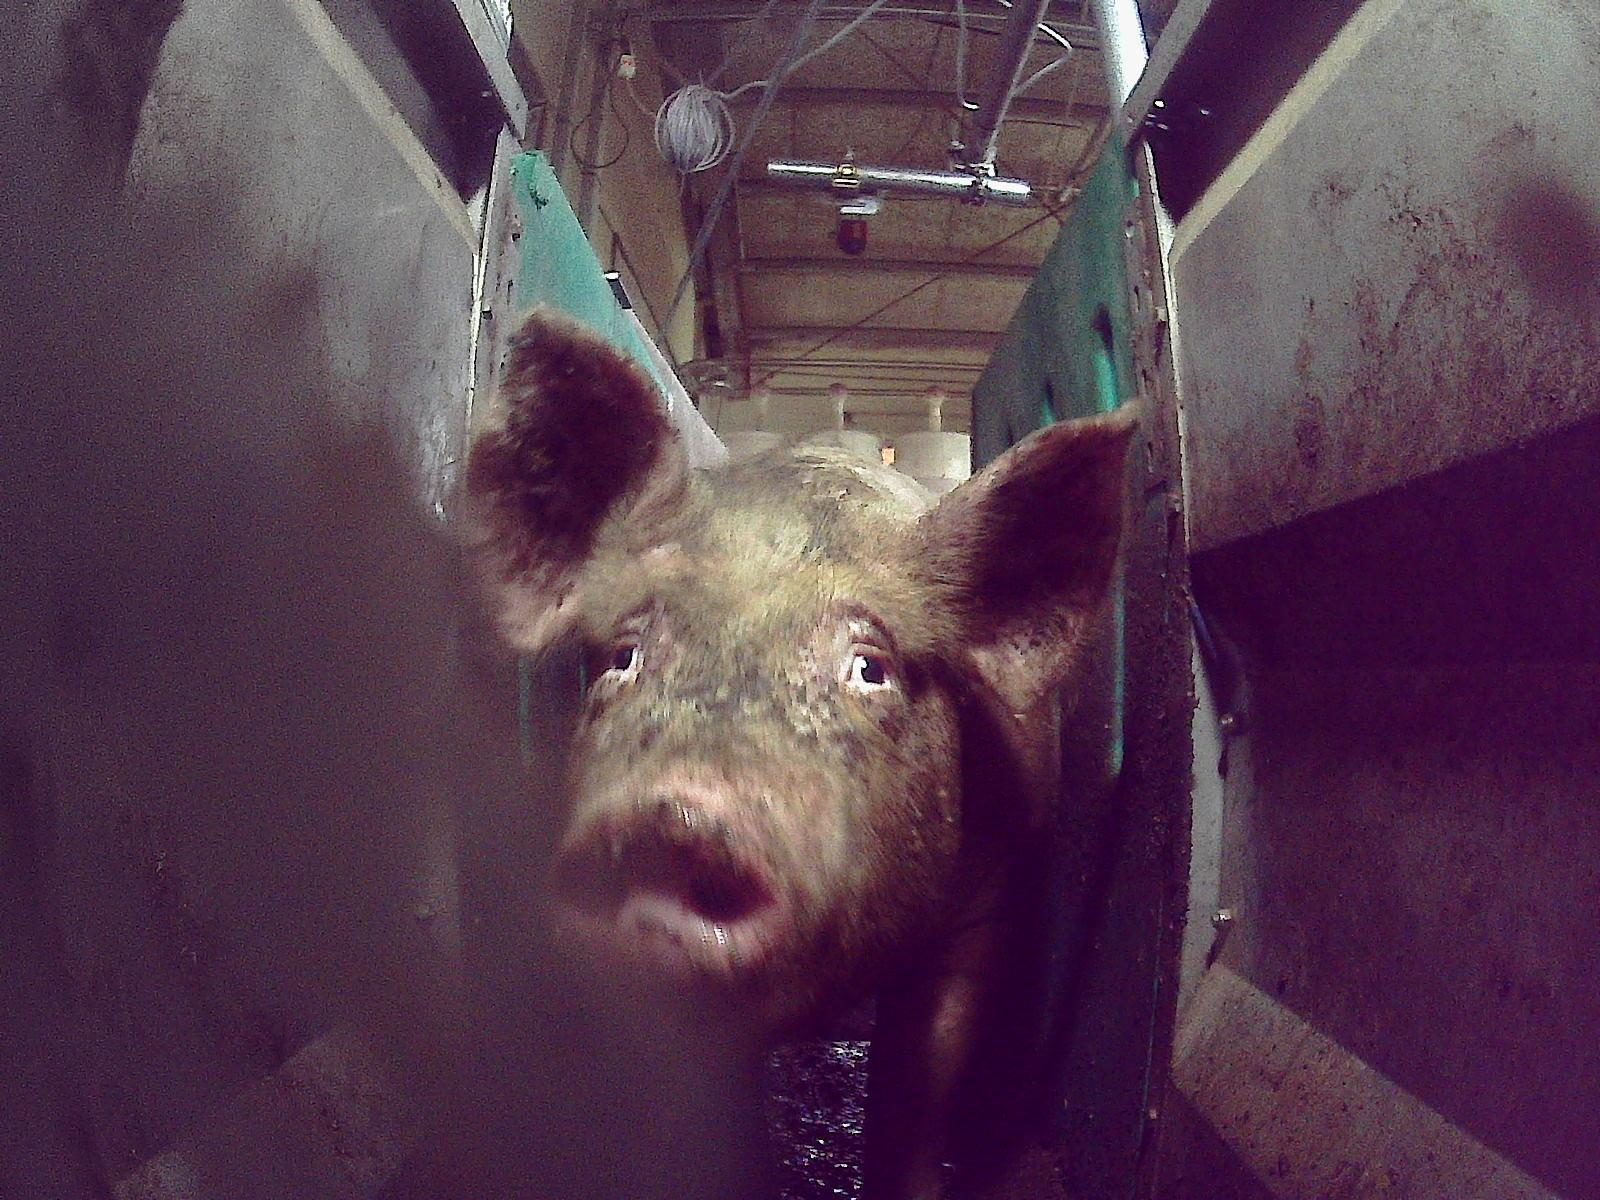Face: (547, 487, 959, 1014)
